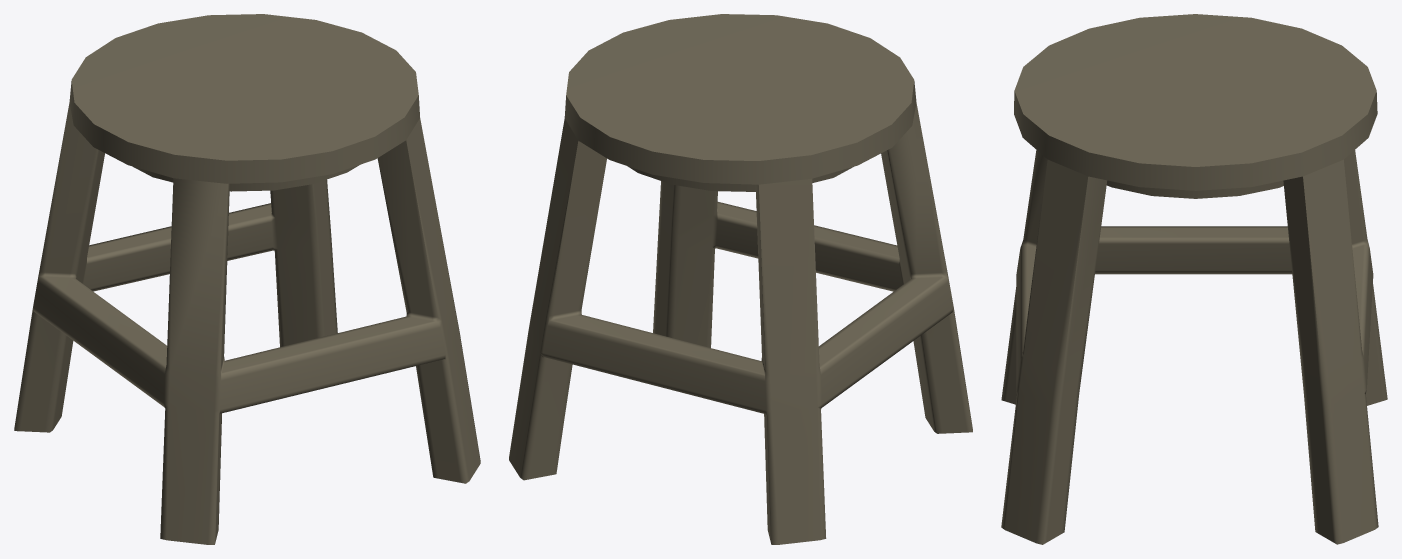
File: sm_chair.fbx
3 renders of one model, left to right at view 1: azimuth 30°, elevation 25°; view 2: azimuth 150°, elevation 25°; view 3: azimuth 270°, elevation 25°, orthographic. The views are drawn at different scales.
Parts seen in each view (by area): view 1: sm_chair; view 2: sm_chair; view 3: sm_chair.
Boxes of the visible parts, x1,y1,x2,y2 form: sm_chair: (14,14,480,544); sm_chair: (509,14,972,544); sm_chair: (1001,14,1387,544).
Bounding box in the file's own units: 43.04 × 46.12 × 43.26.
